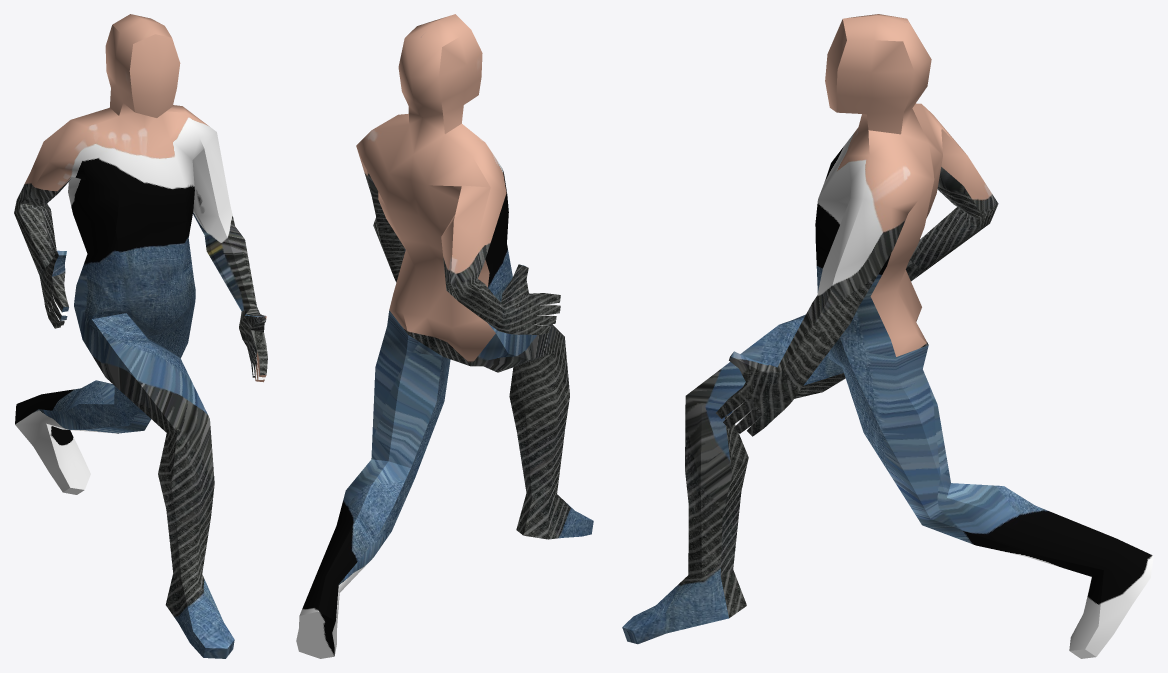
Rendered from human10.obj.
3 views of the same model, side by side, from view 1: azimuth 30°, elevation 25°; view 2: azimuth 150°, elevation 25°; view 3: azimuth 270°, elevation 25° (orthographic). The views are drawn at different scales.
Parts seen in each view (by area): view 1: HumanMale; view 2: HumanMale; view 3: HumanMale.
Boxes of the visible parts, left/top/right/bottom form: HumanMale: left=14, top=14, right=267, bottom=658; HumanMale: left=296, top=14, right=593, bottom=658; HumanMale: left=622, top=14, right=1153, bottom=658.
Bounding box in the file's own units: 0.4118 × 1.22 × 0.9189.
Materials: 1 (1 with a texture image).
